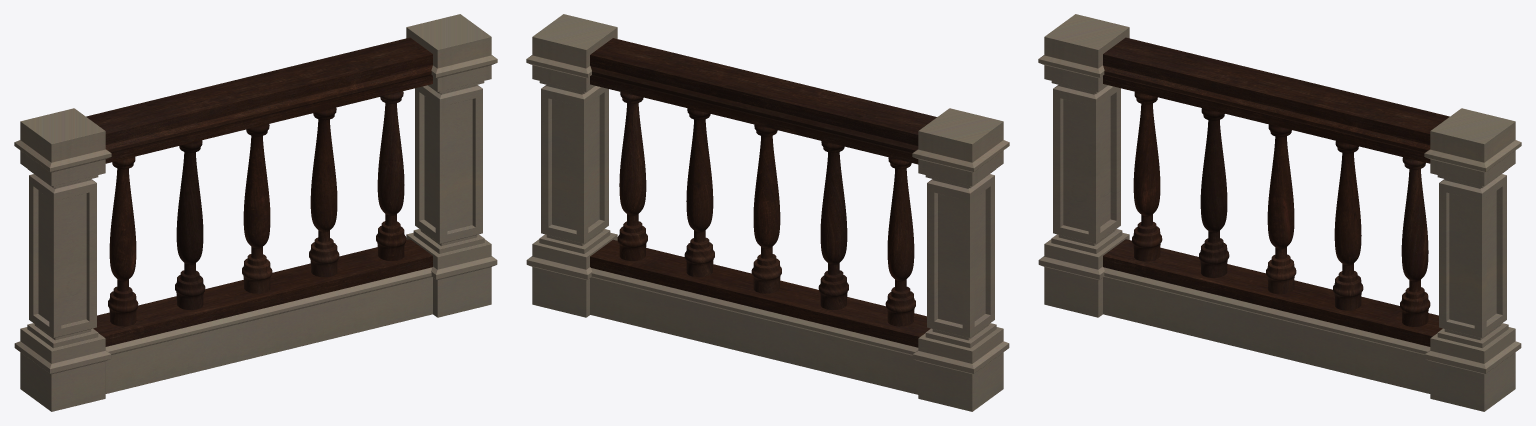
The model's file is SK1 RAILING SHORT.fbx.
The picture shows the model from 3 angles, left to right: view 1: azimuth 30°, elevation 25°; view 2: azimuth 150°, elevation 25°; view 3: azimuth 330°, elevation 25°; orthographic projection.
Visible parts, largest first — view 1: SK2 RAILING SHORT; view 2: SK2 RAILING SHORT; view 3: SK2 RAILING SHORT.
Boxes of the visible parts, x1,y1,x2,y2 form: SK2 RAILING SHORT: (14, 14, 497, 411); SK2 RAILING SHORT: (526, 14, 1009, 411); SK2 RAILING SHORT: (1038, 14, 1521, 411).
Bounding box in the file's own units: 199 × 114 × 27.43.
